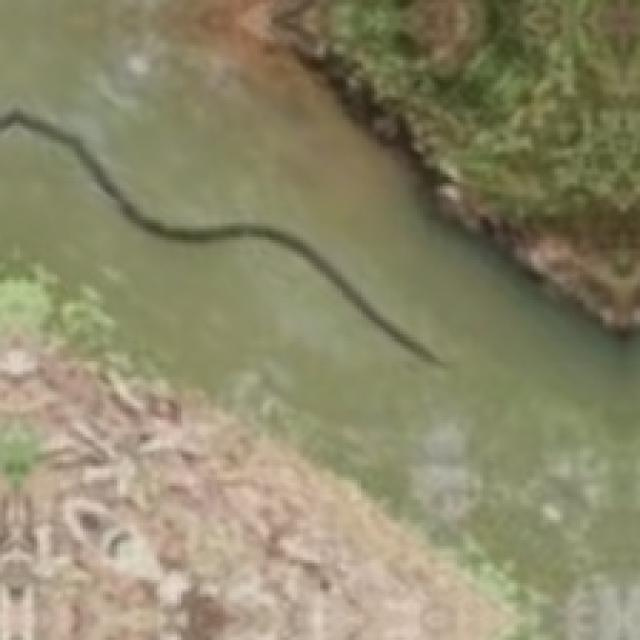king cobra: (0, 109, 443, 363)
